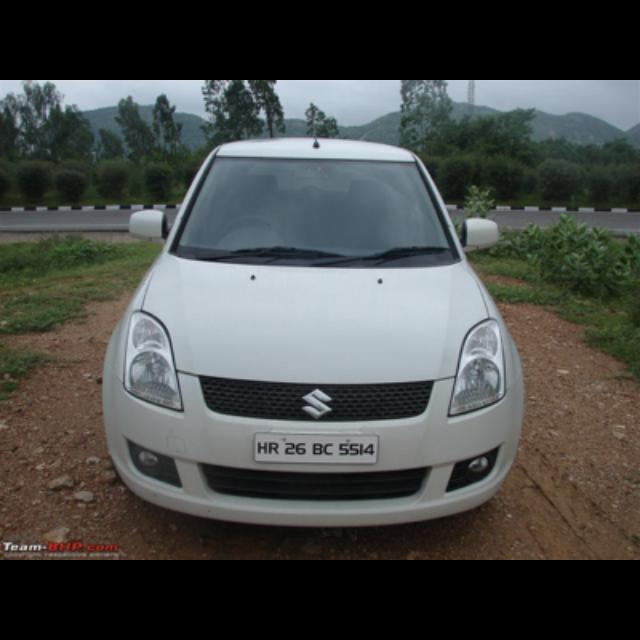carPlate: (255, 433, 379, 464)
